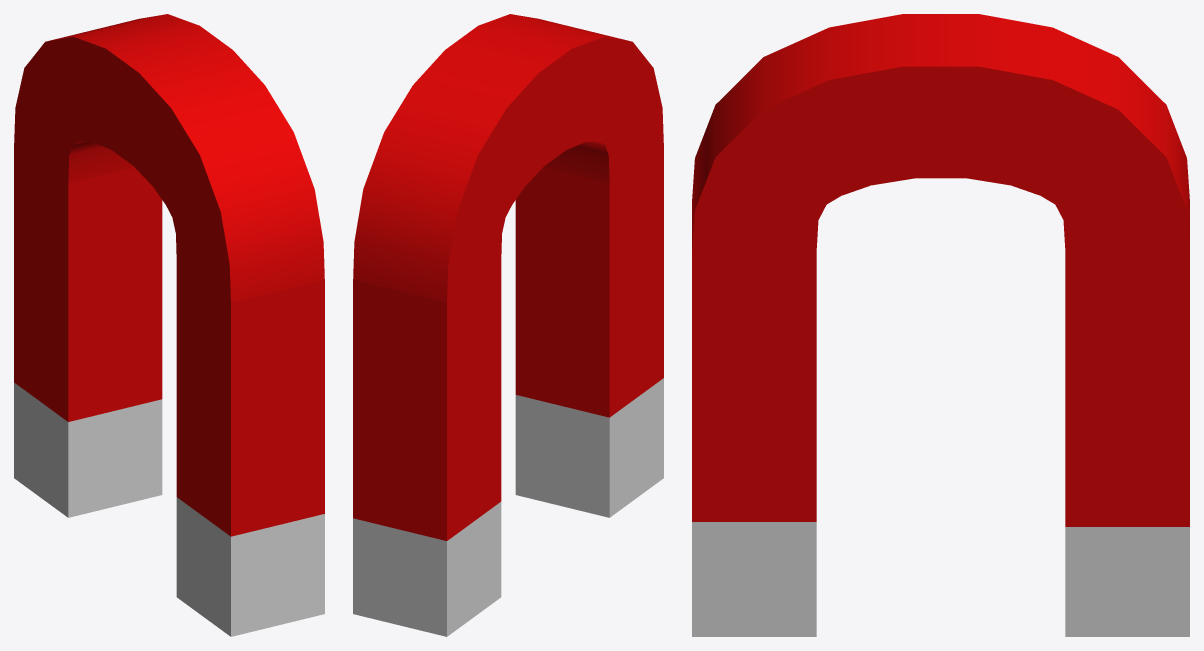
The model's file is magnet.fbx.
3 views of the same model, side by side, from view 1: azimuth 30°, elevation 25°; view 2: azimuth 150°, elevation 25°; view 3: azimuth 270°, elevation 25° (orthographic). The views are drawn at different scales.
Visible parts, largest first — view 1: pCube3; view 2: pCube3; view 3: pCube3.
Part boxes in pixels (x1,y1,x2,y2): pCube3: (14,14,324,636); pCube3: (353,14,663,636); pCube3: (692,14,1189,636).
Size of the model in its own units: 5.72 by 28.92 by 22.88.
